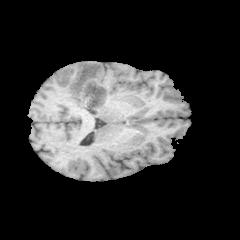glioma: (68, 63, 108, 109)
